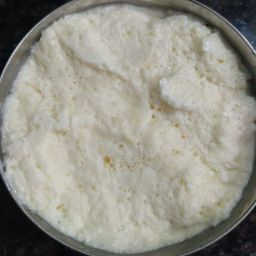Heavy Cream: (10, 9, 250, 113), (136, 8, 220, 256), (171, 10, 256, 230), (57, 28, 134, 250), (9, 86, 59, 208)
